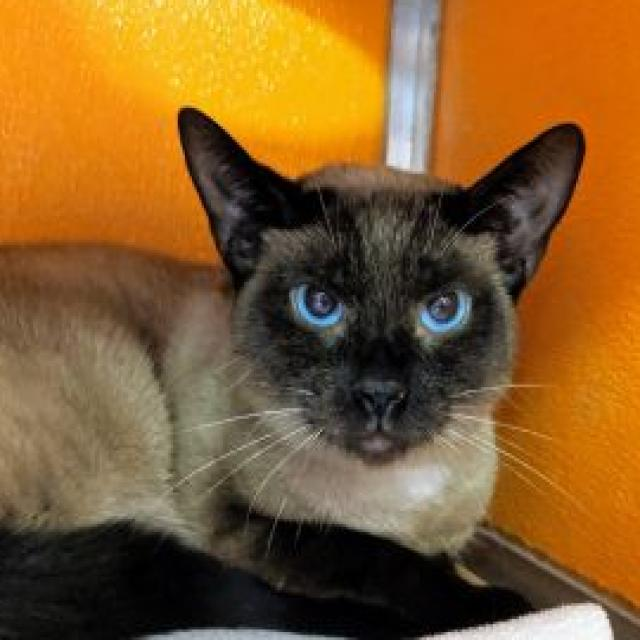Siamese: (0, 100, 590, 640)
